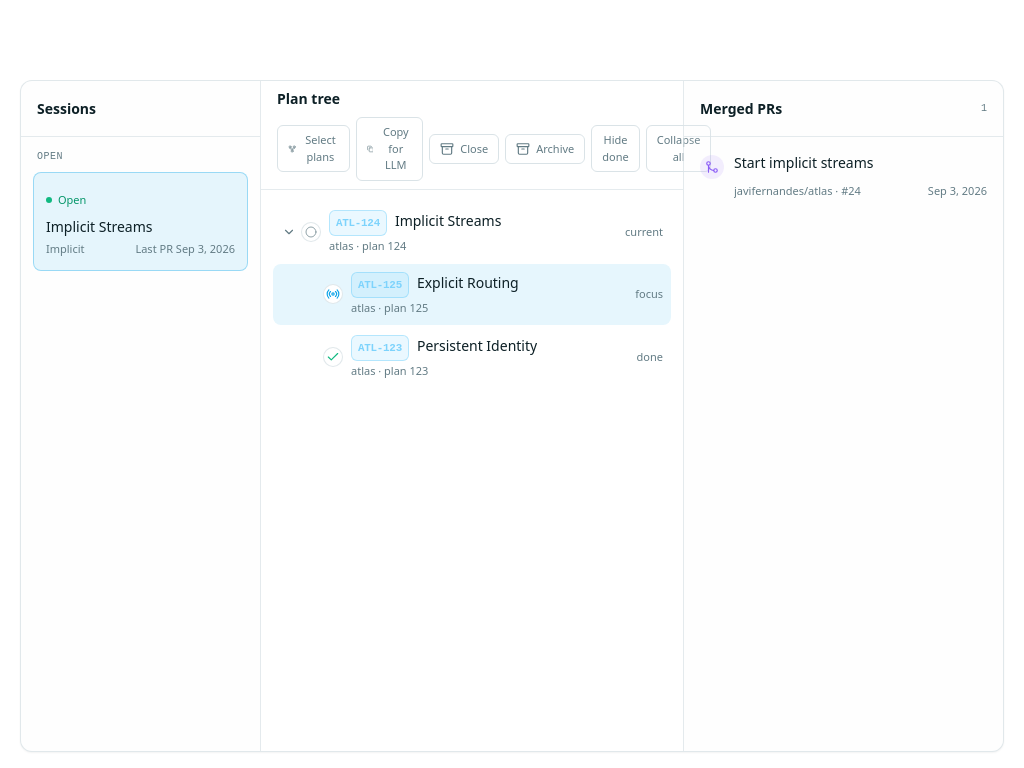
ExecutionStreamView › clears inline fork selection when selection mode is cancelled
The width and height of the screenshot is (1024, 768).
Click the button "Select plans" at x=313, y=149, box [277,125,350,172]
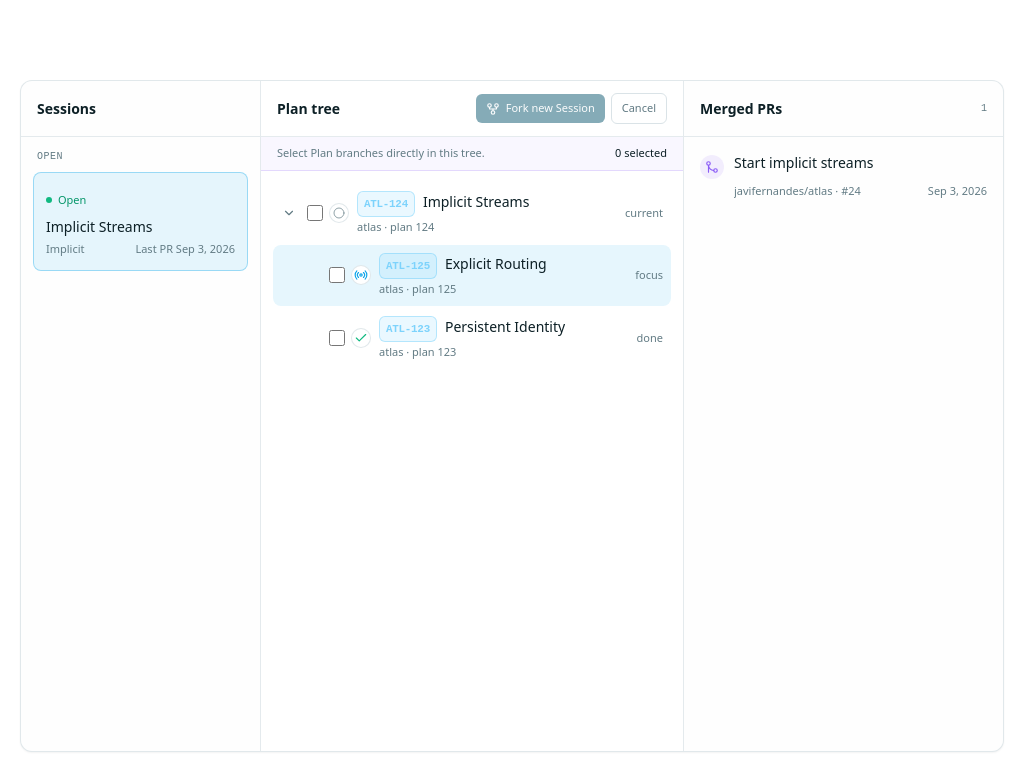
Click the checkbox named "Select Explicit Routing to fork" at x=337, y=275, box [329,267,345,283]
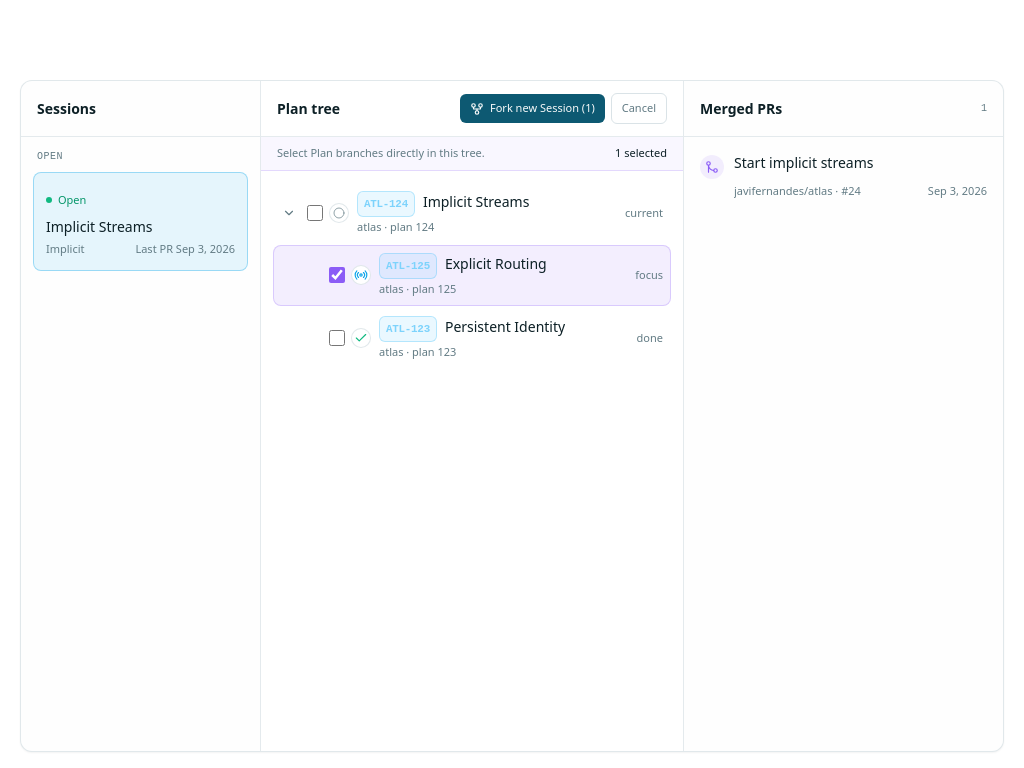
Expected: the button "Fork new Session (1)" is enabled, [460,94,605,123]
Click the button with aria-label "Cancel Plan selection" at x=639, y=109, box [611,93,667,124]
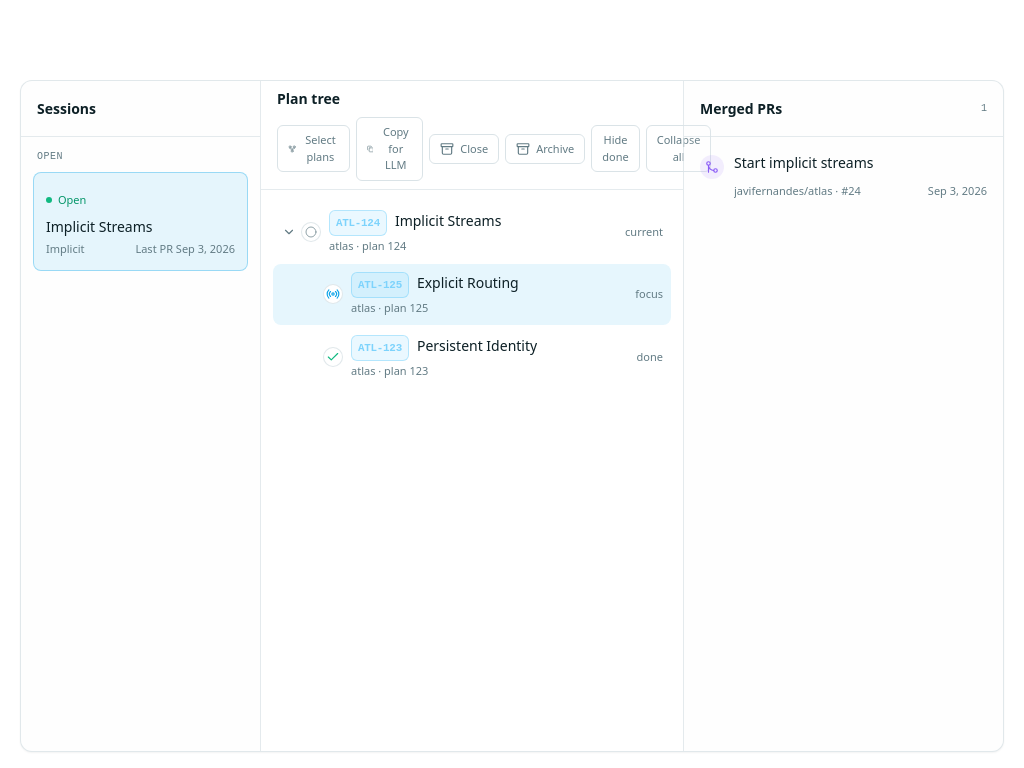
Click the button "Select plans" at x=313, y=149, box [277,125,350,172]
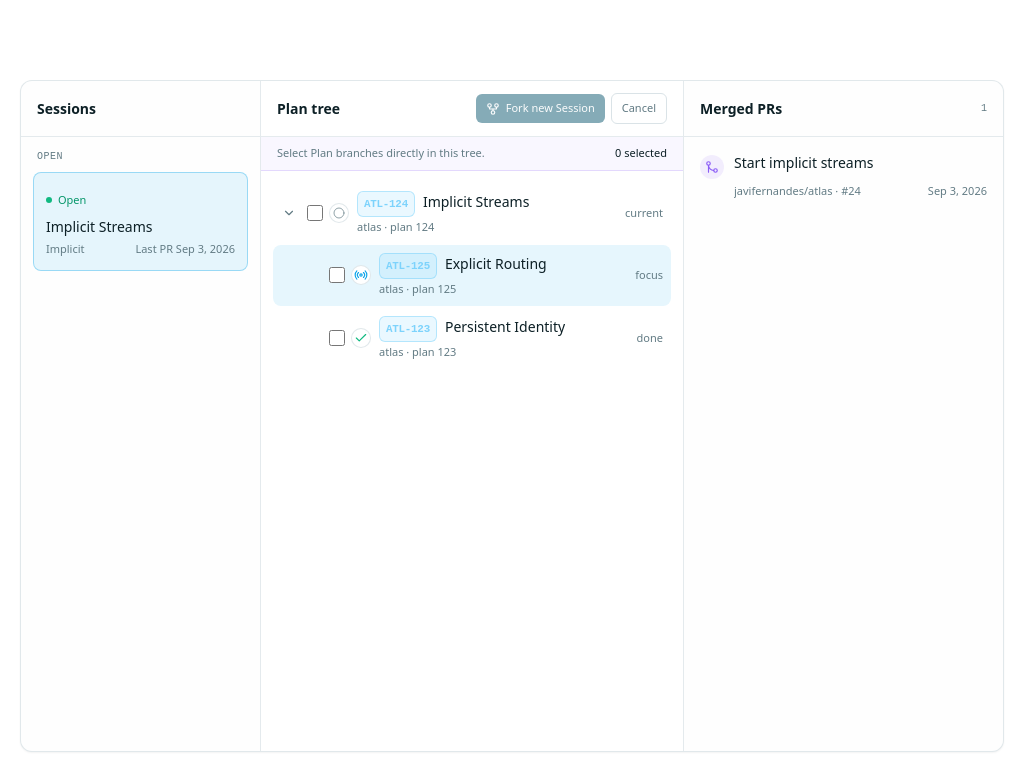
Expected: the button "Fork new Session" is disabled, [476,94,605,123]
